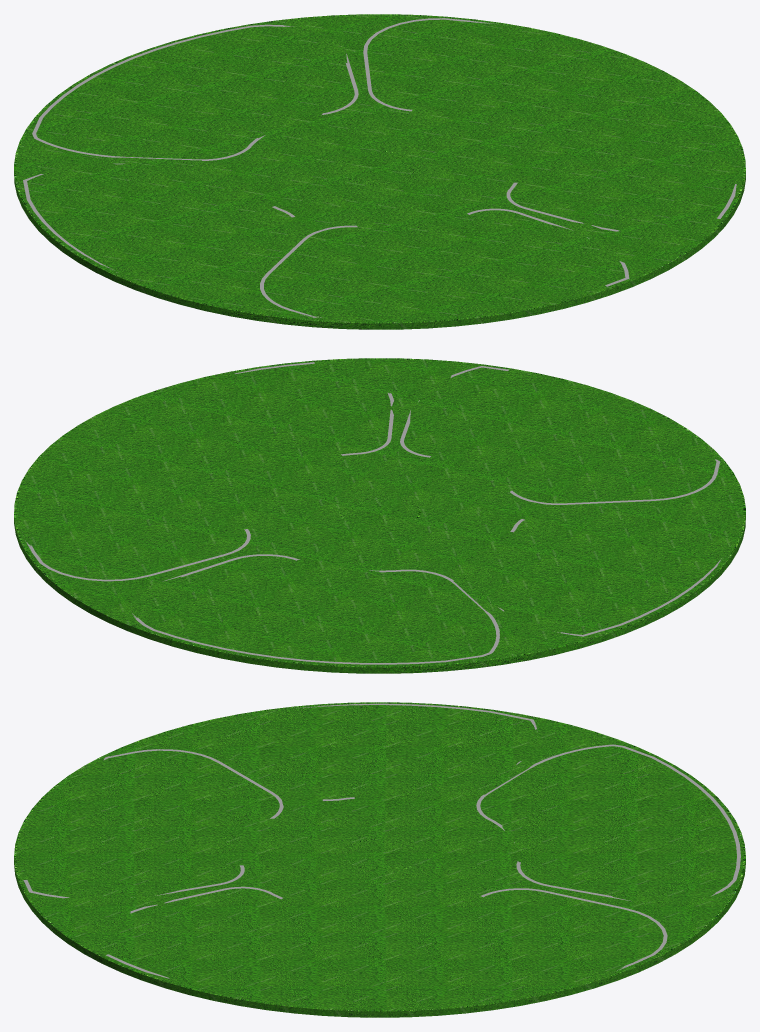
File: Test_grass.fbx
The picture shows the model from 3 angles, top to bottom: view 1: azimuth 30°, elevation 25°; view 2: azimuth 150°, elevation 25°; view 3: azimuth 270°, elevation 25°; orthographic projection.
Visible parts, largest first — view 1: SmartSeparate_15; view 2: SmartSeparate_15; view 3: SmartSeparate_15.
Boxes of the visible parts, box(x1,y1,x2,y2) form: SmartSeparate_15: box(14, 14, 745, 329); SmartSeparate_15: box(14, 358, 745, 673); SmartSeparate_15: box(14, 702, 745, 1017).
Bounding box in the file's own units: 1373 × 14.53 × 1373.
